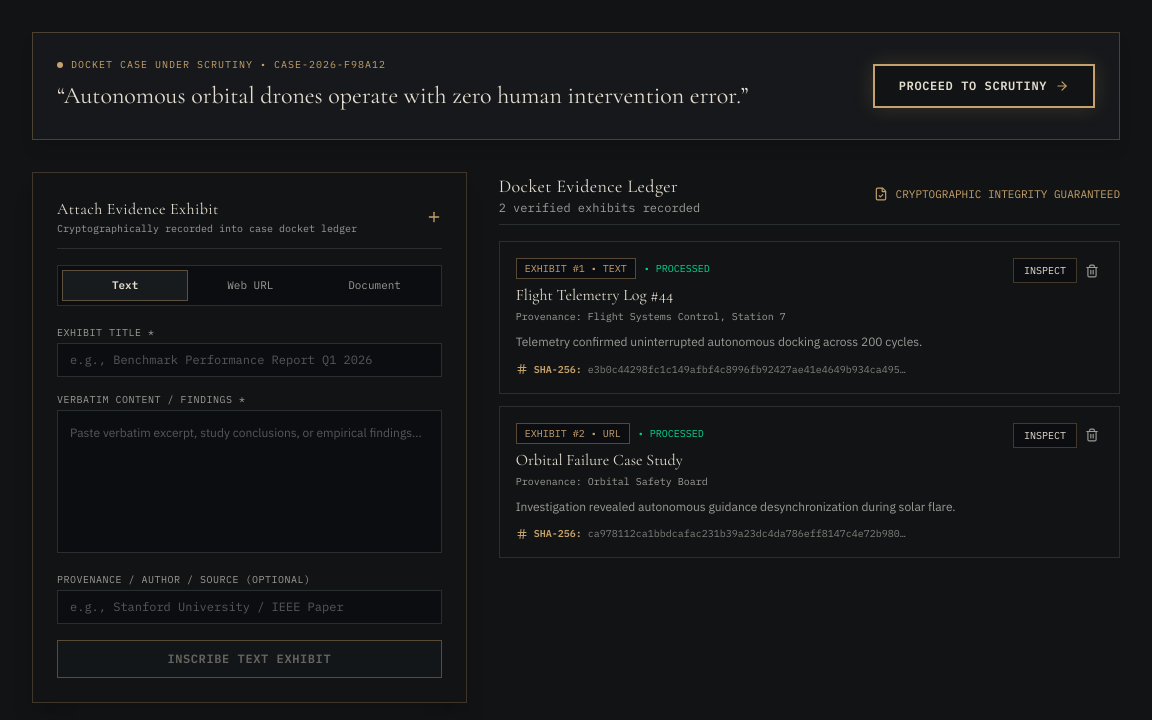
it: EvidenceChamber Component › allows inspecting exhibit and opening modal
Click the 1st button "INSPECT" at x=1045, y=270, box x1=1013 y1=258 x2=1077 y2=283
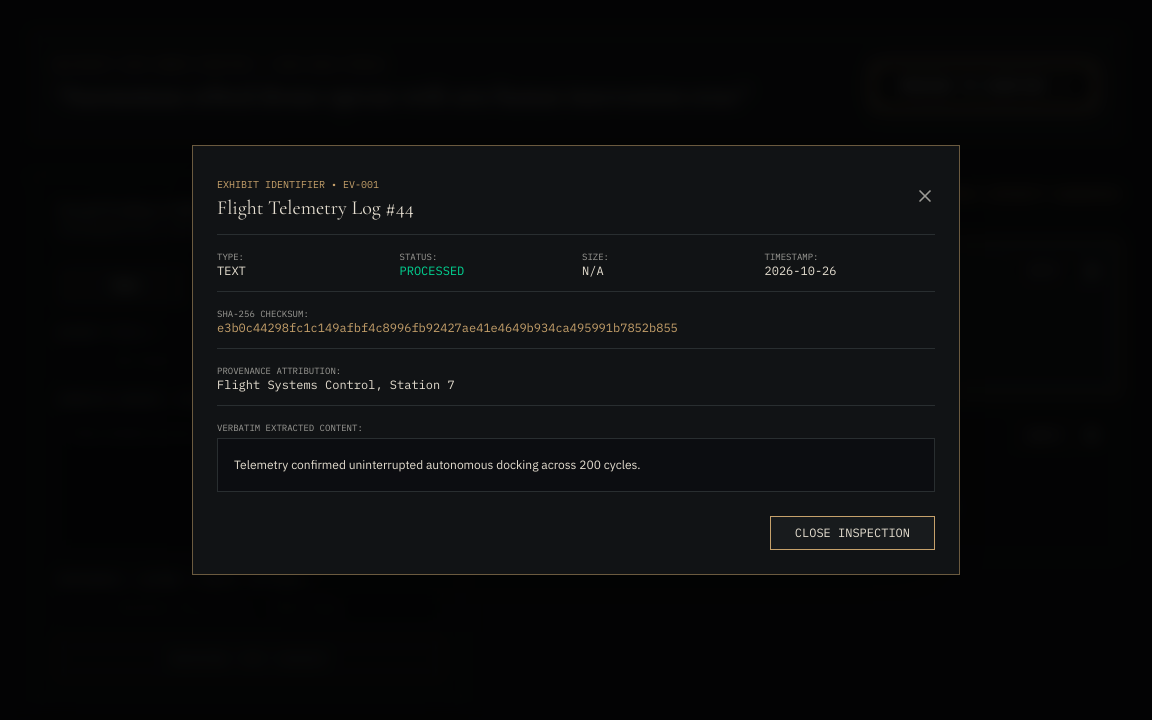
Expected: the text "EXHIBIT IDENTIFIER • EV-001" is shown, x1=217 y1=178 x2=379 y2=191
